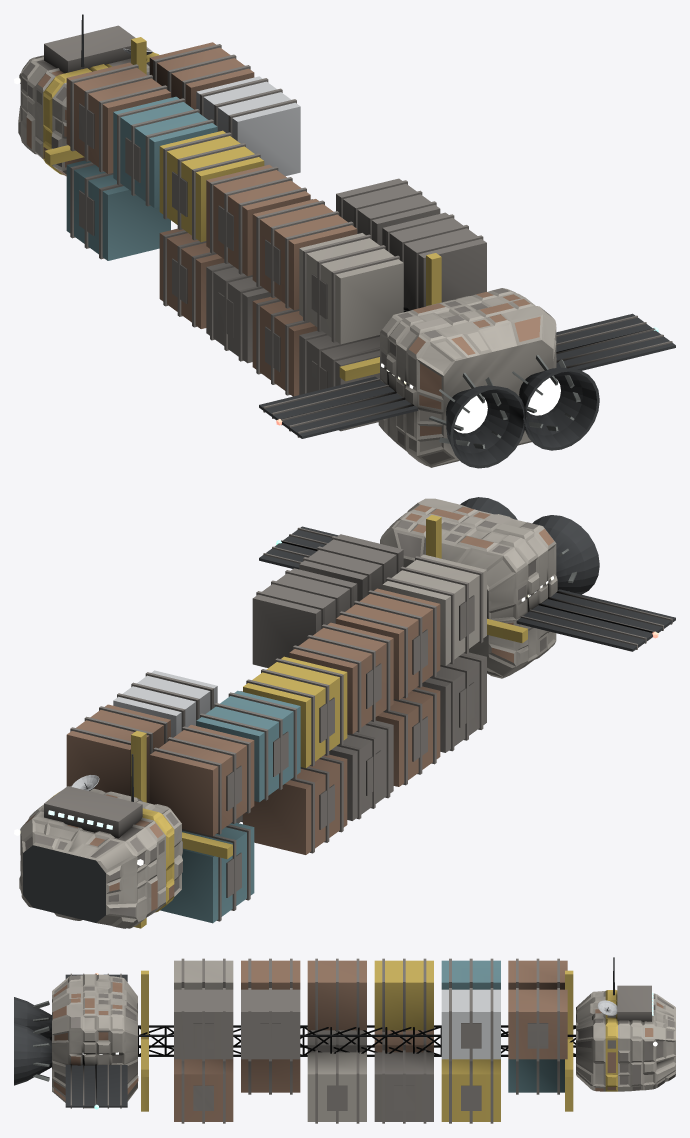
File: freighter.glb
The picture shows the model from 3 angles, top to bottom: view 1: azimuth 30°, elevation 25°; view 2: azimuth 150°, elevation 25°; view 3: azimuth 270°, elevation 25°; orthographic projection. The views are drawn at different scales.
Visible parts, largest first — view 1: body; view 2: body; view 3: body.
Part boxes in pixels (box(x1,y1,x2,y2)): body: box(14, 14, 675, 468); body: box(14, 497, 675, 928); body: box(14, 957, 675, 1123).
Size of the model in its own units: 0.4592 by 0.23 by 0.96.
